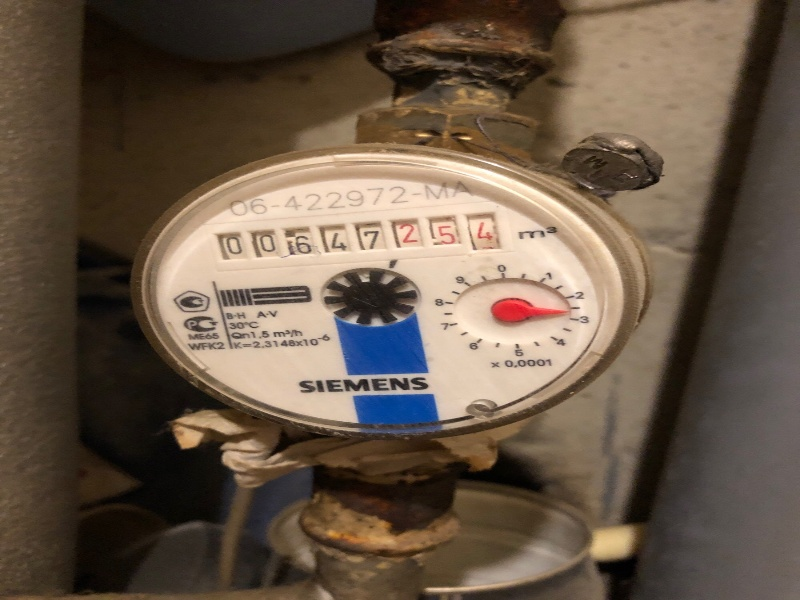meter: (207, 221, 501, 259)
